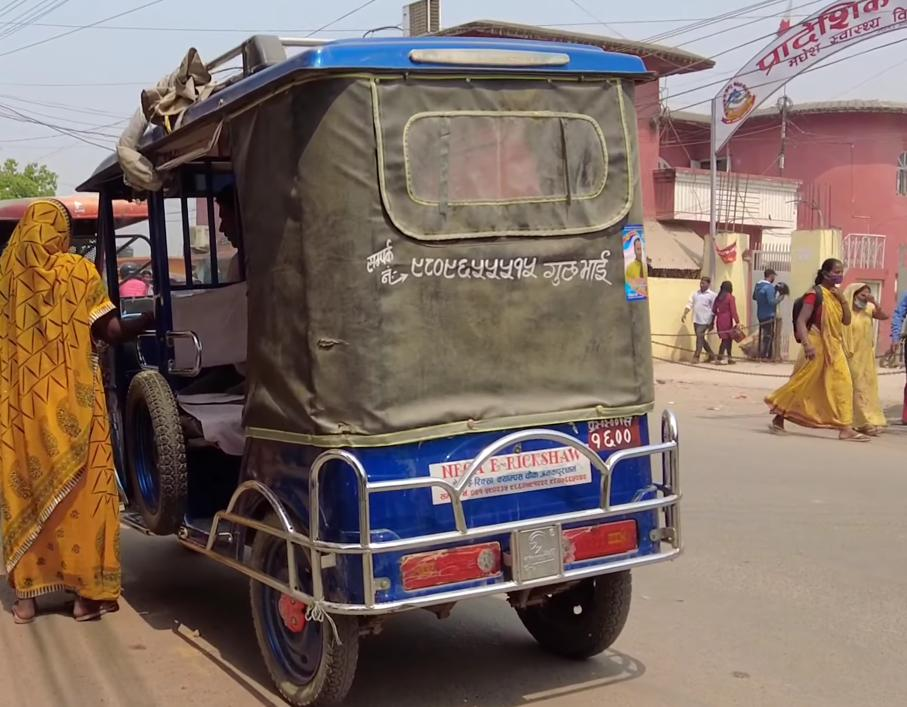e-rickshaw: (81, 16, 688, 707)
